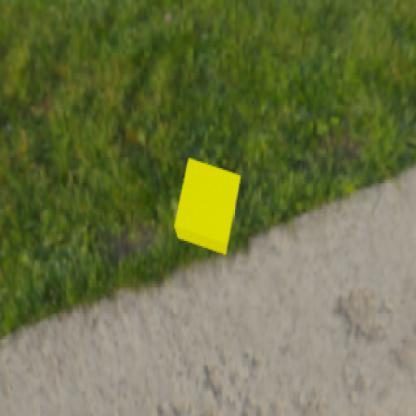cube: (172, 158, 240, 254)
